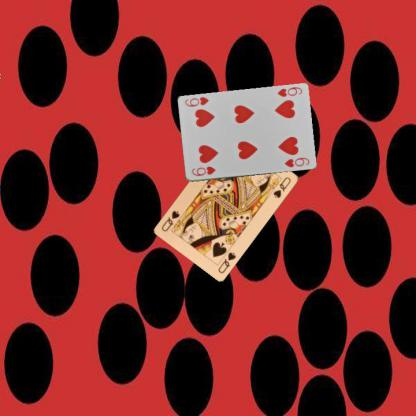6h: (274, 84, 303, 98), (189, 164, 217, 177)
Qs: (215, 249, 237, 274)
